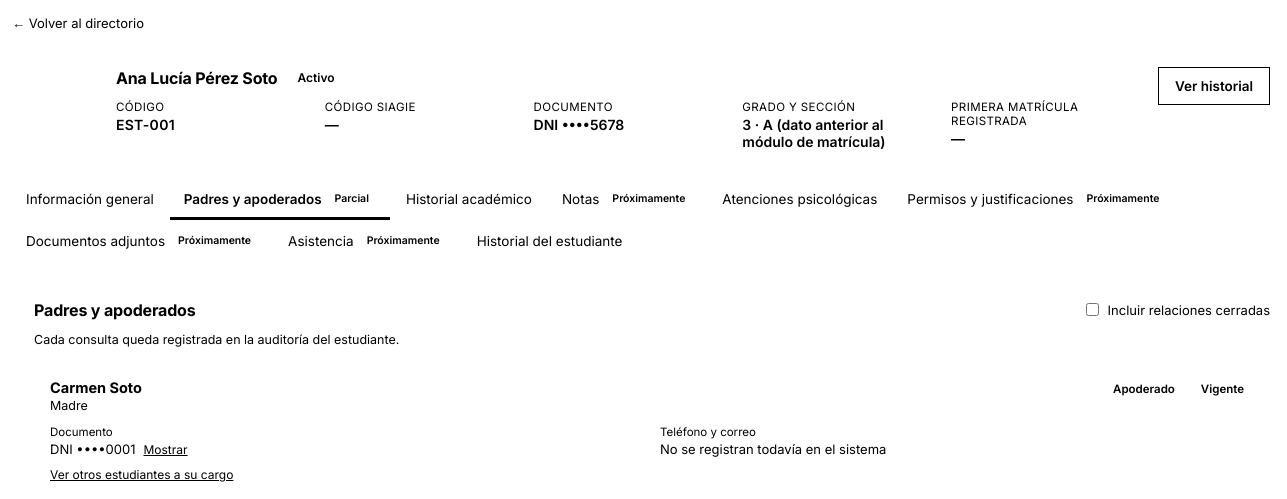
Test: Ficha — otros estudiantes a cargo de un responsable › sin otros vínculos lo indica
The width and height of the screenshot is (1287, 499).
Click the button "Ver otros estudiantes a su cargo".
click(142, 474)  # box 50,467 -> 233,482
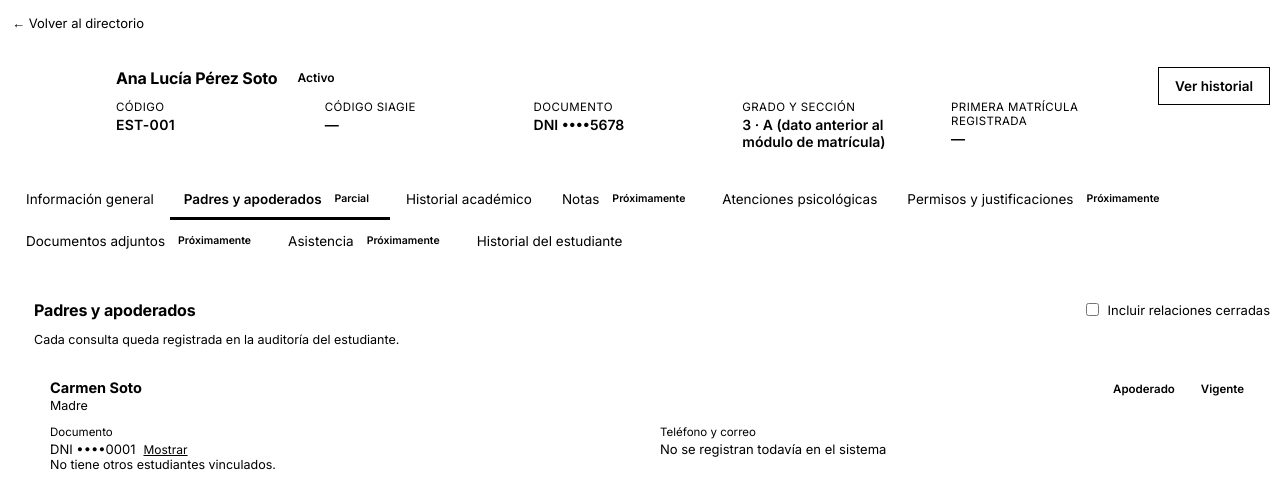
Result: the text "No tiene otros estudiantes vinculados." is shown at 50,457 -> 276,472
